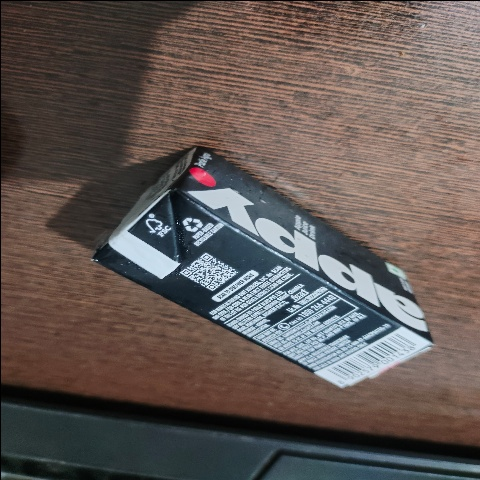appy: (97, 129, 439, 393)
